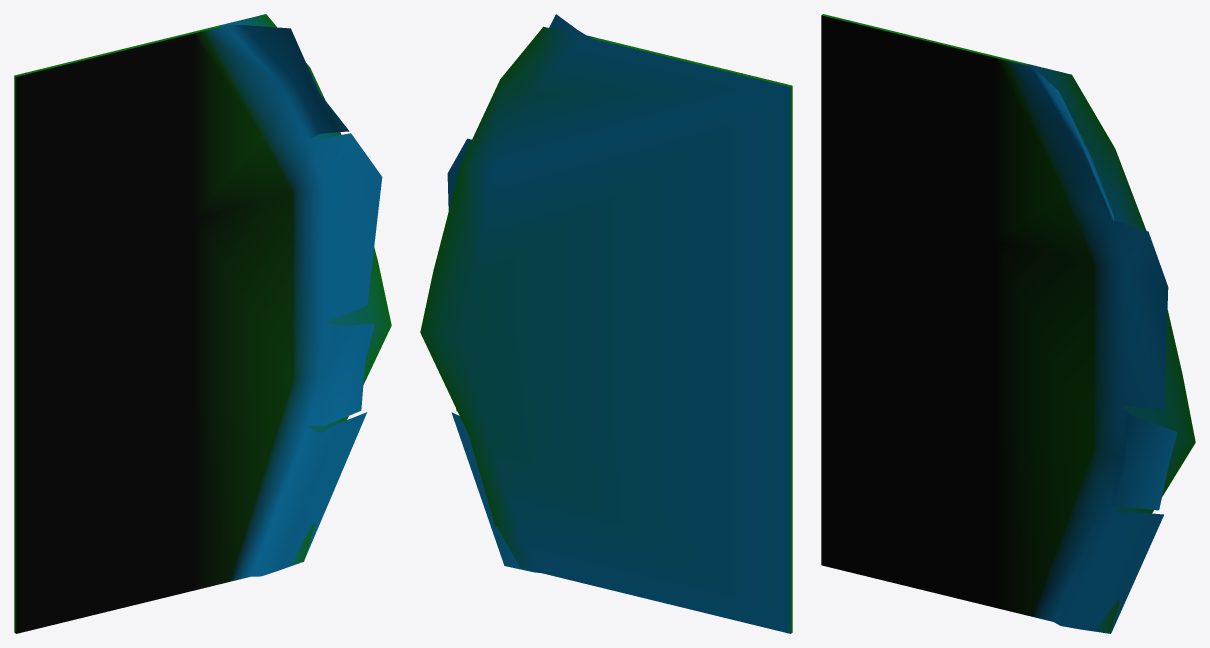
Rendered from DBK_Drywall_Side_C_Single.fbx.
The picture shows the model from 3 angles, left to right: view 1: azimuth 30°, elevation 25°; view 2: azimuth 150°, elevation 25°; view 3: azimuth 330°, elevation 25°; orthographic projection.
Visible parts, largest first — view 1: DBK_Drywall_Side_C_Single; view 2: DBK_Drywall_Side_C_Single; view 3: DBK_Drywall_Side_C_Single.
Part boxes in pixels (bbox=[...]): DBK_Drywall_Side_C_Single: bbox=[14, 14, 391, 633]; DBK_Drywall_Side_C_Single: bbox=[420, 14, 792, 633]; DBK_Drywall_Side_C_Single: bbox=[821, 14, 1195, 633].
Size of what is drawn, in the model's own units: 213 by 301 by 21.05.
